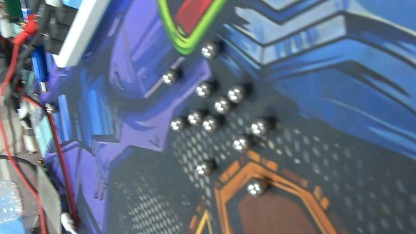ironball: (196, 39, 223, 61), (243, 177, 266, 199), (247, 116, 266, 140), (191, 157, 213, 177), (230, 133, 248, 157), (191, 78, 213, 97), (212, 96, 231, 115), (168, 113, 184, 133), (226, 83, 242, 102), (202, 115, 217, 134), (159, 67, 176, 83), (187, 109, 199, 125)
